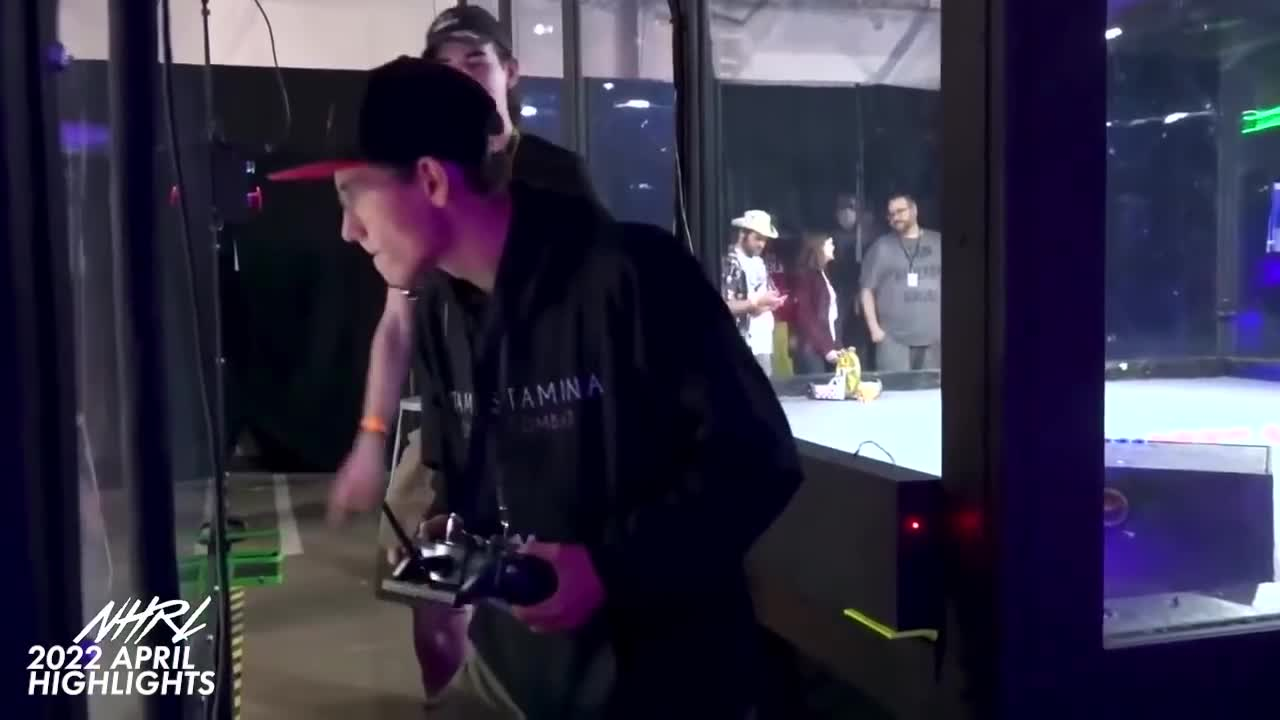combatbot: (802, 344, 891, 405)
housebot: (1100, 428, 1278, 594)
